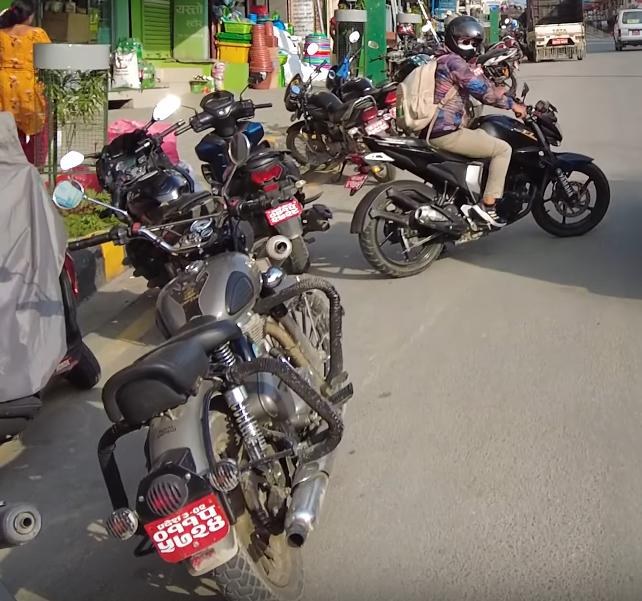bike: (51, 173, 357, 601), (350, 85, 613, 285)
